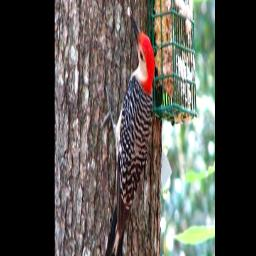Woodpecker: (98, 7, 154, 256)
